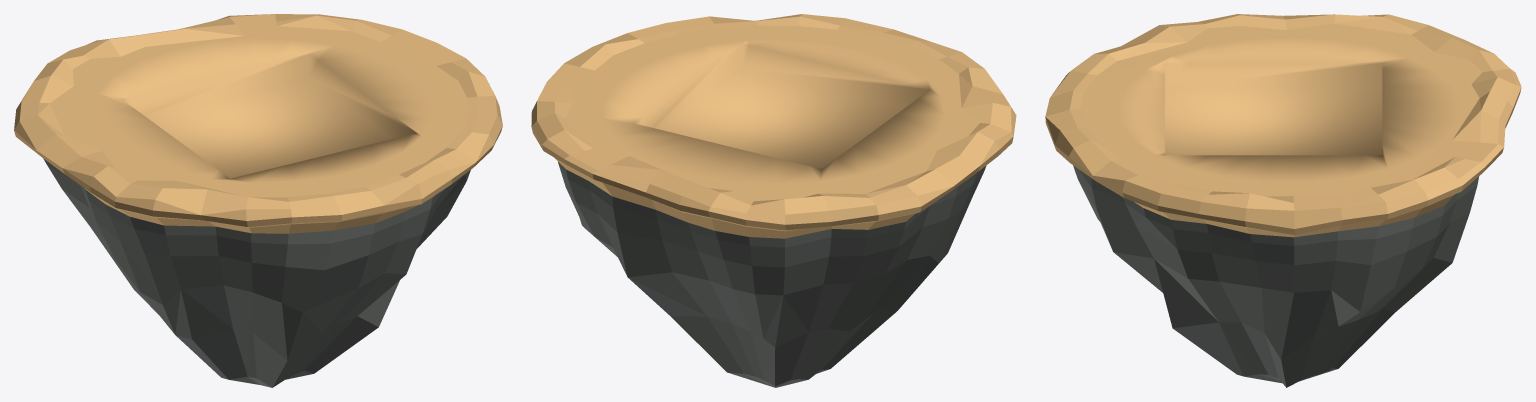
The model's file is Island8x8.fbx.
3 renders of one model, left to right at view 1: azimuth 30°, elevation 25°; view 2: azimuth 150°, elevation 25°; view 3: azimuth 270°, elevation 25°, orthographic.
Parts seen in each view (by area): view 1: Island; view 2: Island; view 3: Island.
Boxes of the visible parts, x1=… form: Island: x1=14, y1=14, x2=502, y2=387; Island: x1=531, y1=14, x2=1016, y2=387; Island: x1=1045, y1=14, x2=1521, y2=387.
Size of the model in its own units: 3544 by 2306 by 3503.
